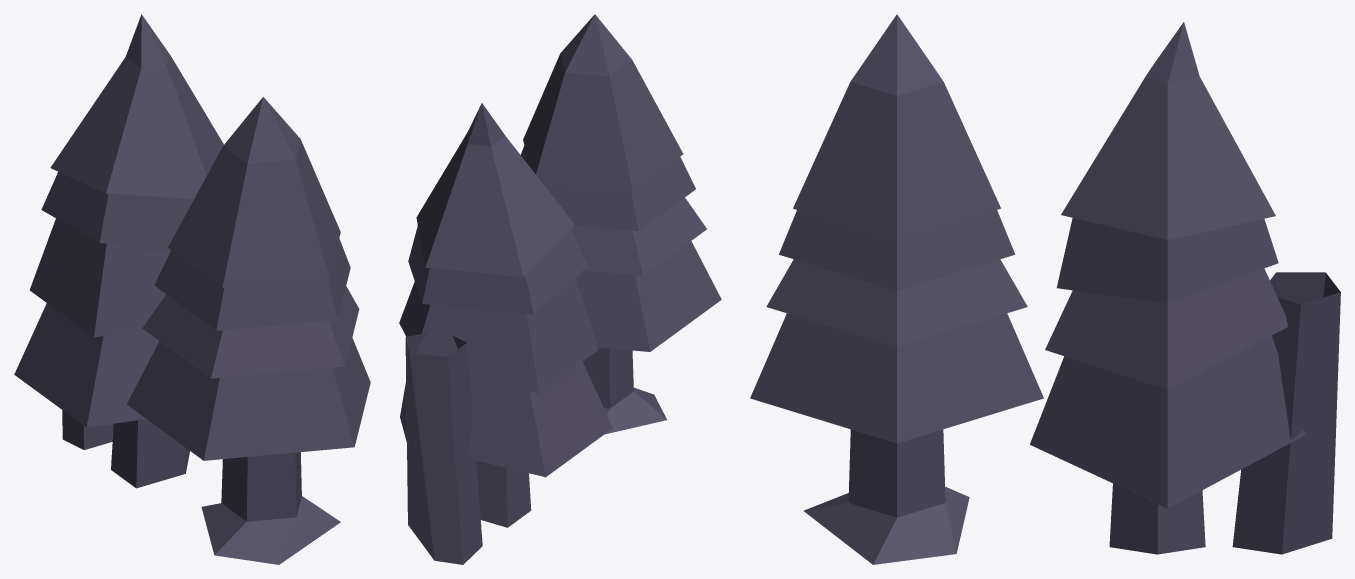
File: Tree 1.fbx
3 views of the same model, side by side, from view 1: azimuth 30°, elevation 25°; view 2: azimuth 150°, elevation 25°; view 3: azimuth 270°, elevation 25° (orthographic). The views are drawn at different scales.
Visible parts, largest first — view 1: polySurface292, polySurface296, polySurface293, polySurface294, polySurface295; view 2: polySurface296, polySurface292, polySurface295, polySurface293, polySurface294; view 3: polySurface296, polySurface292, polySurface295, polySurface293, polySurface294.
Boxes of the visible parts, <box> form: polySurface292: <box>126,97,370,460</box>; polySurface296: <box>14,14,223,427</box>; polySurface293: <box>201,452,340,564</box>; polySurface294: <box>111,419,189,488</box>; polySurface295: <box>62,410,113,449</box>; polySurface296: <box>399,103,612,477</box>; polySurface292: <box>521,14,721,351</box>; polySurface295: <box>405,333,482,564</box>; polySurface293: <box>583,347,666,434</box>; polySurface294: <box>476,460,531,527</box>; polySurface296: <box>1030,22,1305,508</box>; polySurface292: <box>750,14,1043,443</box>; polySurface295: <box>1232,272,1340,554</box>; polySurface293: <box>803,429,969,564</box>; polySurface294: <box>1109,483,1205,554</box>.
Bounding box in the file's own units: 615 × 1317 × 1298.
